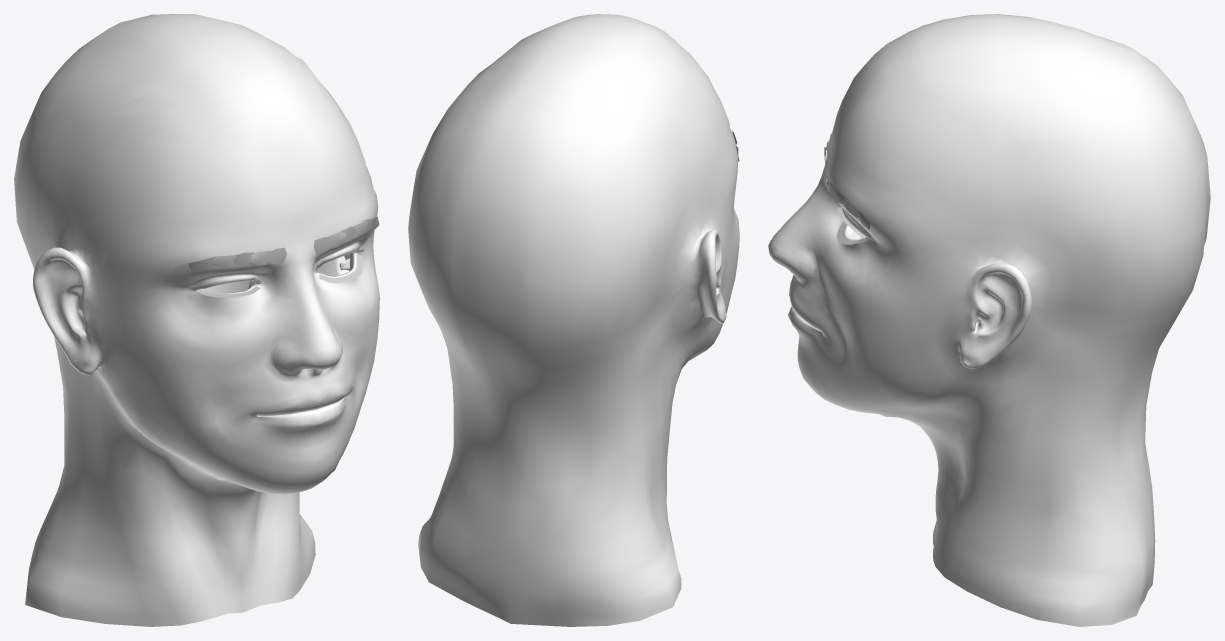
The model's file is eyeSquintRight.obj.
3 views of the same model, side by side, from view 1: azimuth 30°, elevation 25°; view 2: azimuth 150°, elevation 25°; view 3: azimuth 270°, elevation 25° (orthographic). The views are drawn at different scales.
Parts seen in each view (by area): view 1: FaceMesh_Plane.003; view 2: FaceMesh_Plane.003; view 3: FaceMesh_Plane.003.
Boxes of the visible parts, left/top/right/bottom form: FaceMesh_Plane.003: left=14, top=14, right=379, bottom=626; FaceMesh_Plane.003: left=408, top=14, right=739, bottom=626; FaceMesh_Plane.003: left=768, top=14, right=1210, bottom=626.
Bounding box in the file's own units: 1.54 × 2.71 × 1.94.
5 materials, 1 textured.
